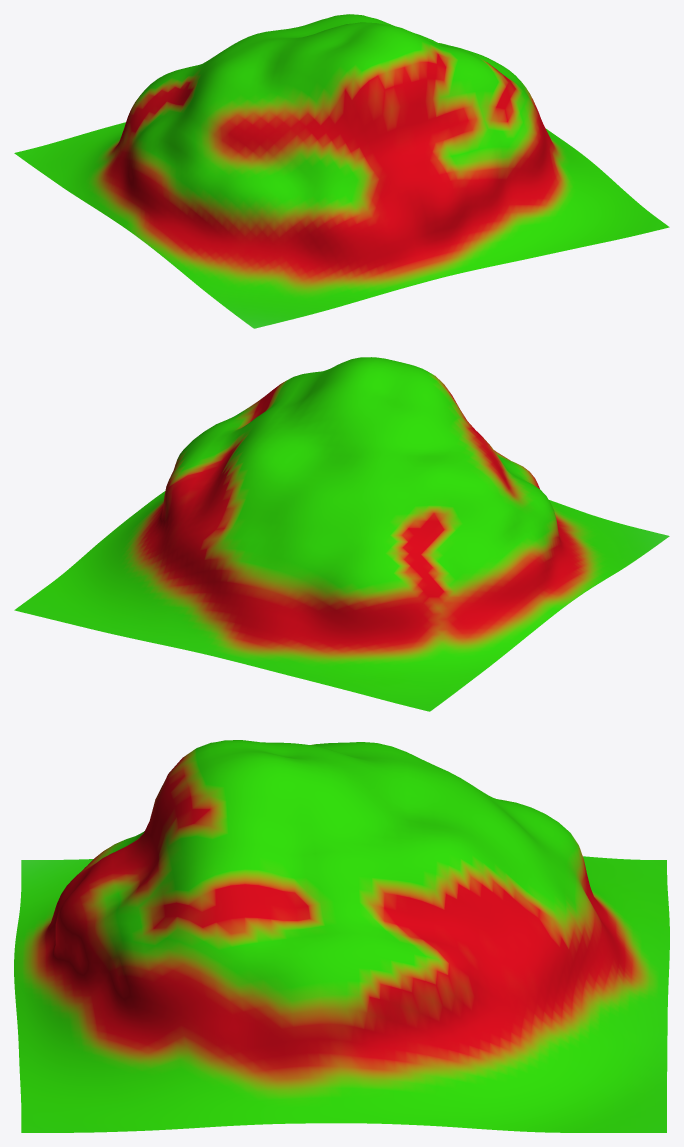
Rendered from island starter.fbx.
The picture shows the model from 3 angles, top to bottom: view 1: azimuth 30°, elevation 25°; view 2: azimuth 150°, elevation 25°; view 3: azimuth 270°, elevation 25°; orthographic projection. The views are drawn at different scales.
Visible parts, largest first — view 1: Plane; view 2: Plane; view 3: Plane.
Part boxes in pixels (x1,y1,x2,y2): Plane: [14, 14, 669, 328]; Plane: [14, 357, 669, 711]; Plane: [14, 740, 669, 1132].
Bounding box in the file's own units: 19694 × 8013 × 19476.
